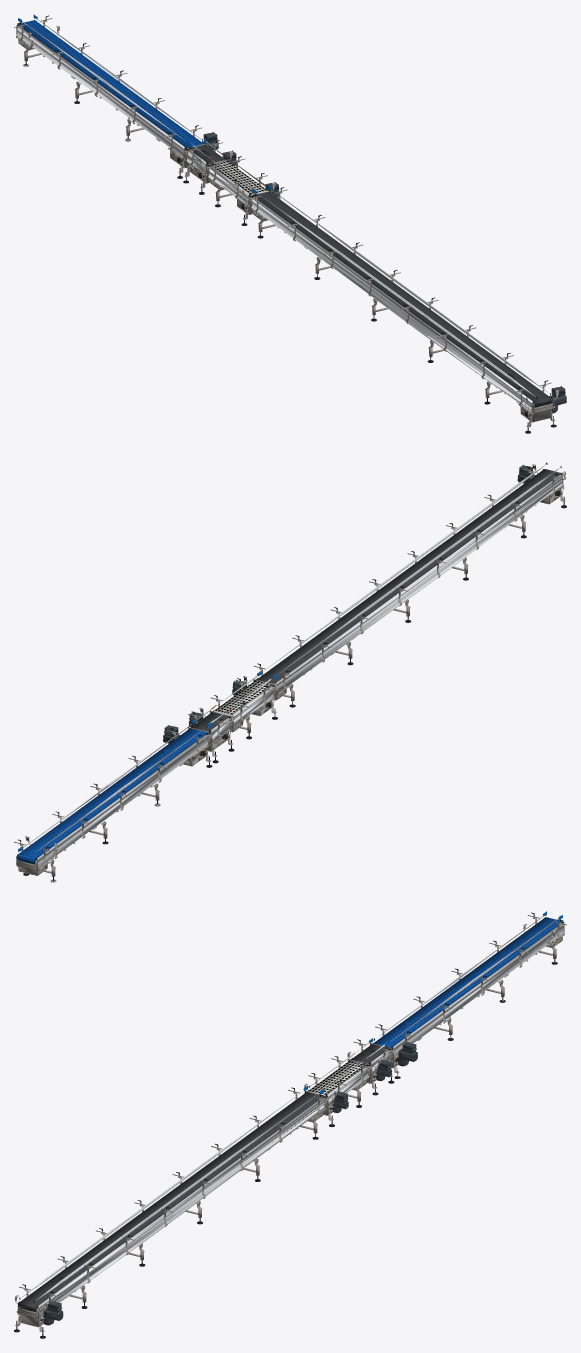
3 views of the same model, one above another, from view 1: azimuth 30°, elevation 25°; view 2: azimuth 150°, elevation 25°; view 3: azimuth 330°, elevation 25° (orthographic).
Visible parts, largest first — view 1: ALU6061, RETE_STD, INOX, RETE_ACC, PL_NERO, MOTORE, RETE_FRE; view 2: ALU6061, RETE_STD, INOX, RETE_ACC, PL_NERO, RETE_FRE, MOTORE; view 3: ALU6061, RETE_STD, INOX, RETE_ACC, MOTORE, PL_NERO, RETE_FRE.
Boxes of the visible parts, x1,y1,x2,y2 form: ALU6061: (17, 17, 548, 413); RETE_STD: (188, 145, 551, 407); INOX: (14, 17, 555, 427); RETE_ACC: (17, 20, 203, 149); PL_NERO: (17, 15, 556, 433); MOTORE: (202, 132, 566, 413); RETE_FRE: (210, 161, 267, 196); ALU6061: (22, 464, 562, 867); RETE_STD: (191, 469, 561, 733); INOX: (14, 469, 565, 882); RETE_ACC: (17, 728, 207, 864); PL_NERO: (16, 462, 566, 882); RETE_FRE: (214, 680, 272, 715); MOTORE: (163, 464, 535, 743); ALU6061: (21, 914, 563, 1318); RETE_STD: (18, 1044, 388, 1312); INOX: (15, 915, 566, 1332); RETE_ACC: (373, 917, 563, 1048); MOTORE: (43, 1041, 417, 1325); PL_NERO: (14, 912, 563, 1338); RETE_FRE: (308, 1060, 366, 1095).
Bounding box in the file's own units: 0.9459 × 0.7567 × 18.29.
17 materials, 2 textured.
